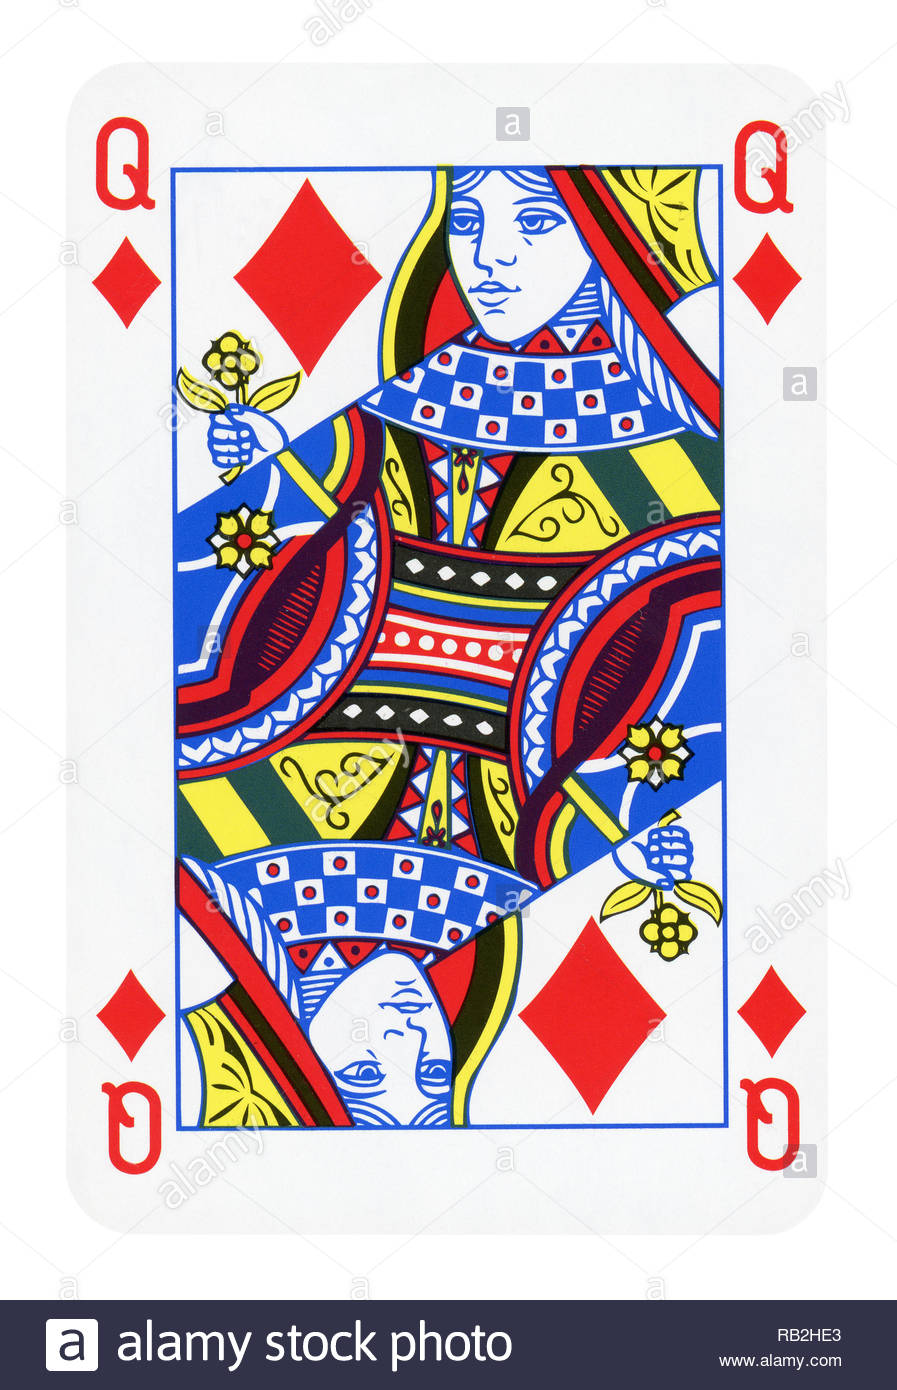queen of diamonds: (69, 70, 836, 1214)
